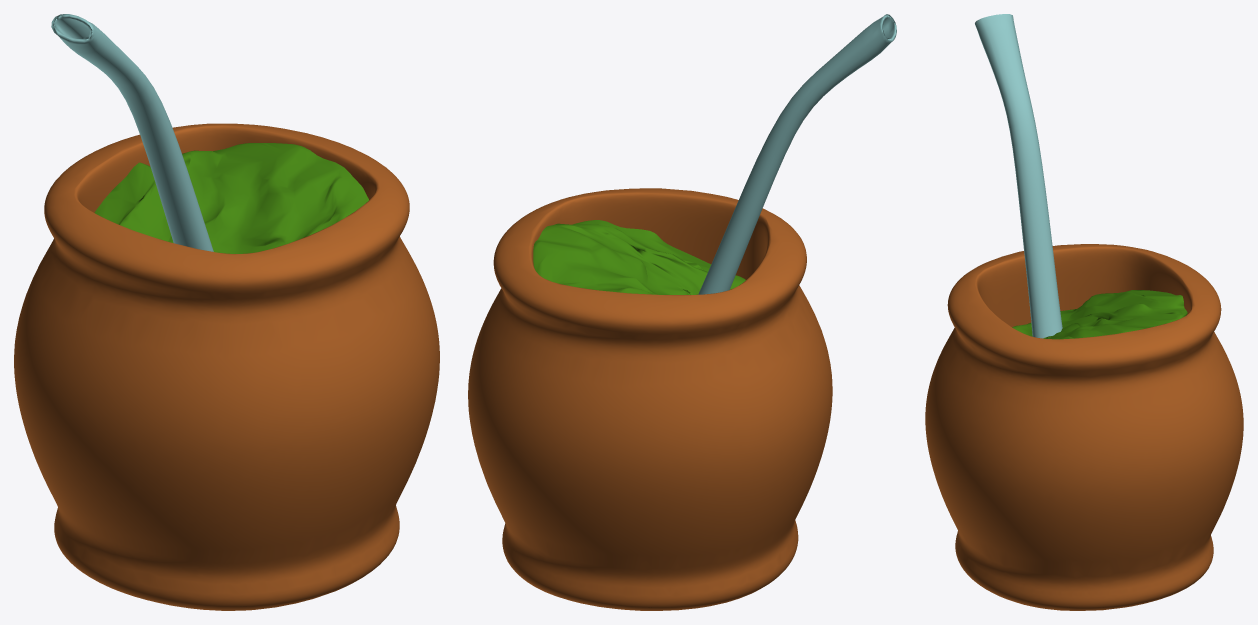
The model's file is matexito_infinito.glb.
The picture shows the model from 3 angles, left to right: view 1: azimuth 30°, elevation 25°; view 2: azimuth 150°, elevation 25°; view 3: azimuth 270°, elevation 25°; orthographic projection. The views are drawn at different scales.
Visible parts, largest first — view 1: Matexito infinito; view 2: Matexito infinito; view 3: Matexito infinito.
Boxes of the visible parts, left/top/right/bottom form: Matexito infinito: left=14, top=14, right=439, bottom=610; Matexito infinito: left=468, top=14, right=896, bottom=610; Matexito infinito: left=925, top=14, right=1243, bottom=610.
Bounding box in the file's own units: 1.33 × 1.99 × 1.19.
